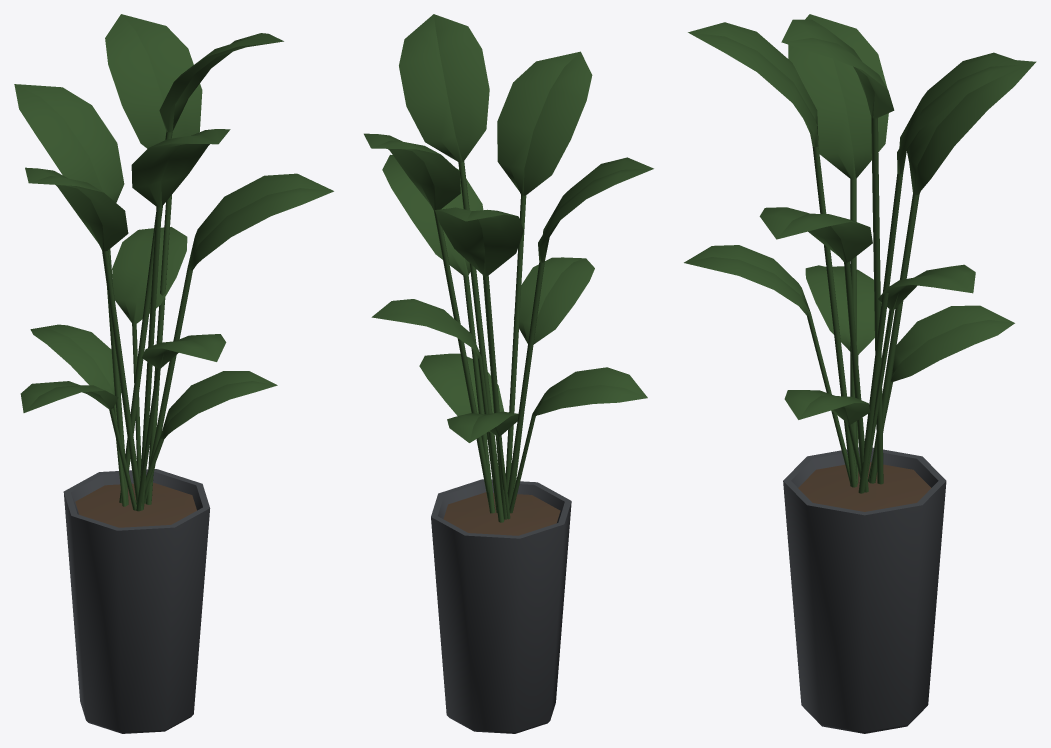
File: flower3.FBX
The picture shows the model from 3 angles, left to right: view 1: azimuth 30°, elevation 25°; view 2: azimuth 150°, elevation 25°; view 3: azimuth 270°, elevation 25°; orthographic projection. The views are drawn at different scales.
Visible parts, largest first — view 1: flower3; view 2: flower3; view 3: flower3.
Boxes of the visible parts, x1,y1,x2,y2 form: flower3: (14, 14, 333, 733); flower3: (364, 14, 653, 733); flower3: (684, 14, 1036, 733).
Bounding box in the file's own units: 78.34 × 173 × 76.51.
